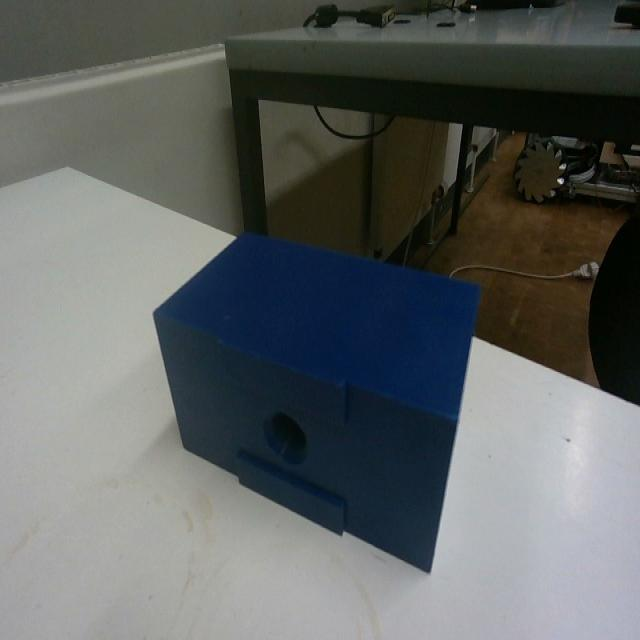Blue Cuboid: (151, 226, 482, 574)
